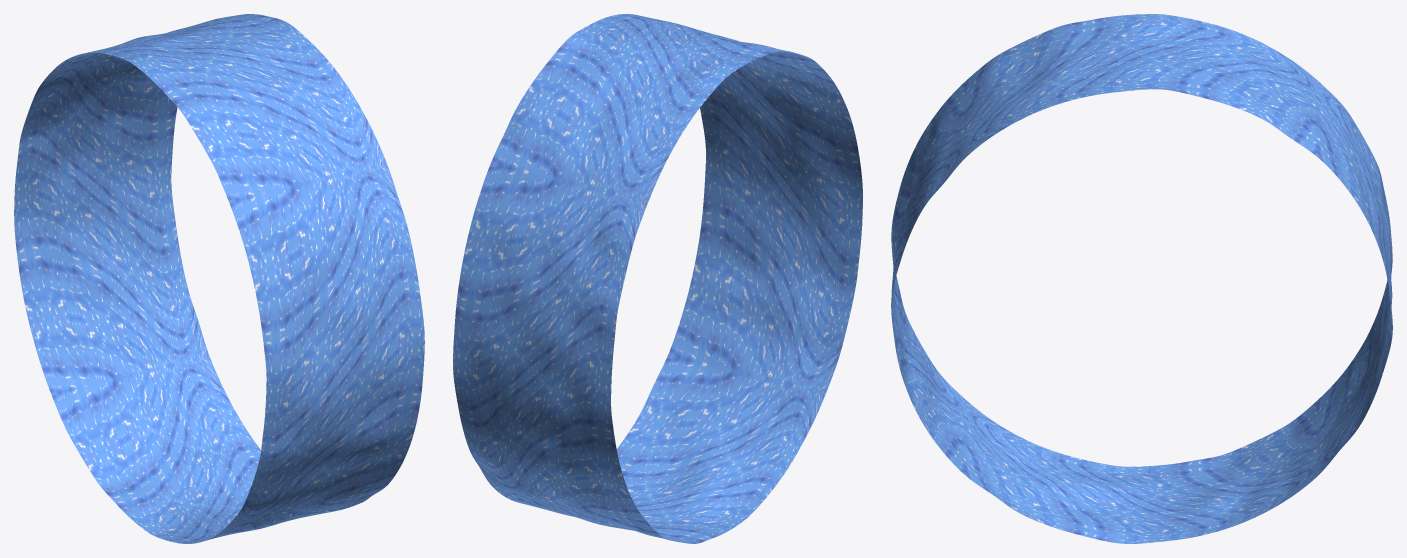
The model's file is nami_shiage_01.fbx.
3 views of the same model, side by side, from view 1: azimuth 30°, elevation 25°; view 2: azimuth 150°, elevation 25°; view 3: azimuth 270°, elevation 25° (orthographic).
Visible parts, largest first — view 1: pCylinder25; view 2: pCylinder25; view 3: pCylinder25.
Part boxes in pixels (bbox=[...]): pCylinder25: bbox=[14, 14, 424, 543]; pCylinder25: bbox=[453, 14, 862, 543]; pCylinder25: bbox=[891, 14, 1392, 543].
Size of the model in its own units: 489 by 1355 by 1355.
Materials: 1 (1 with a texture image).
